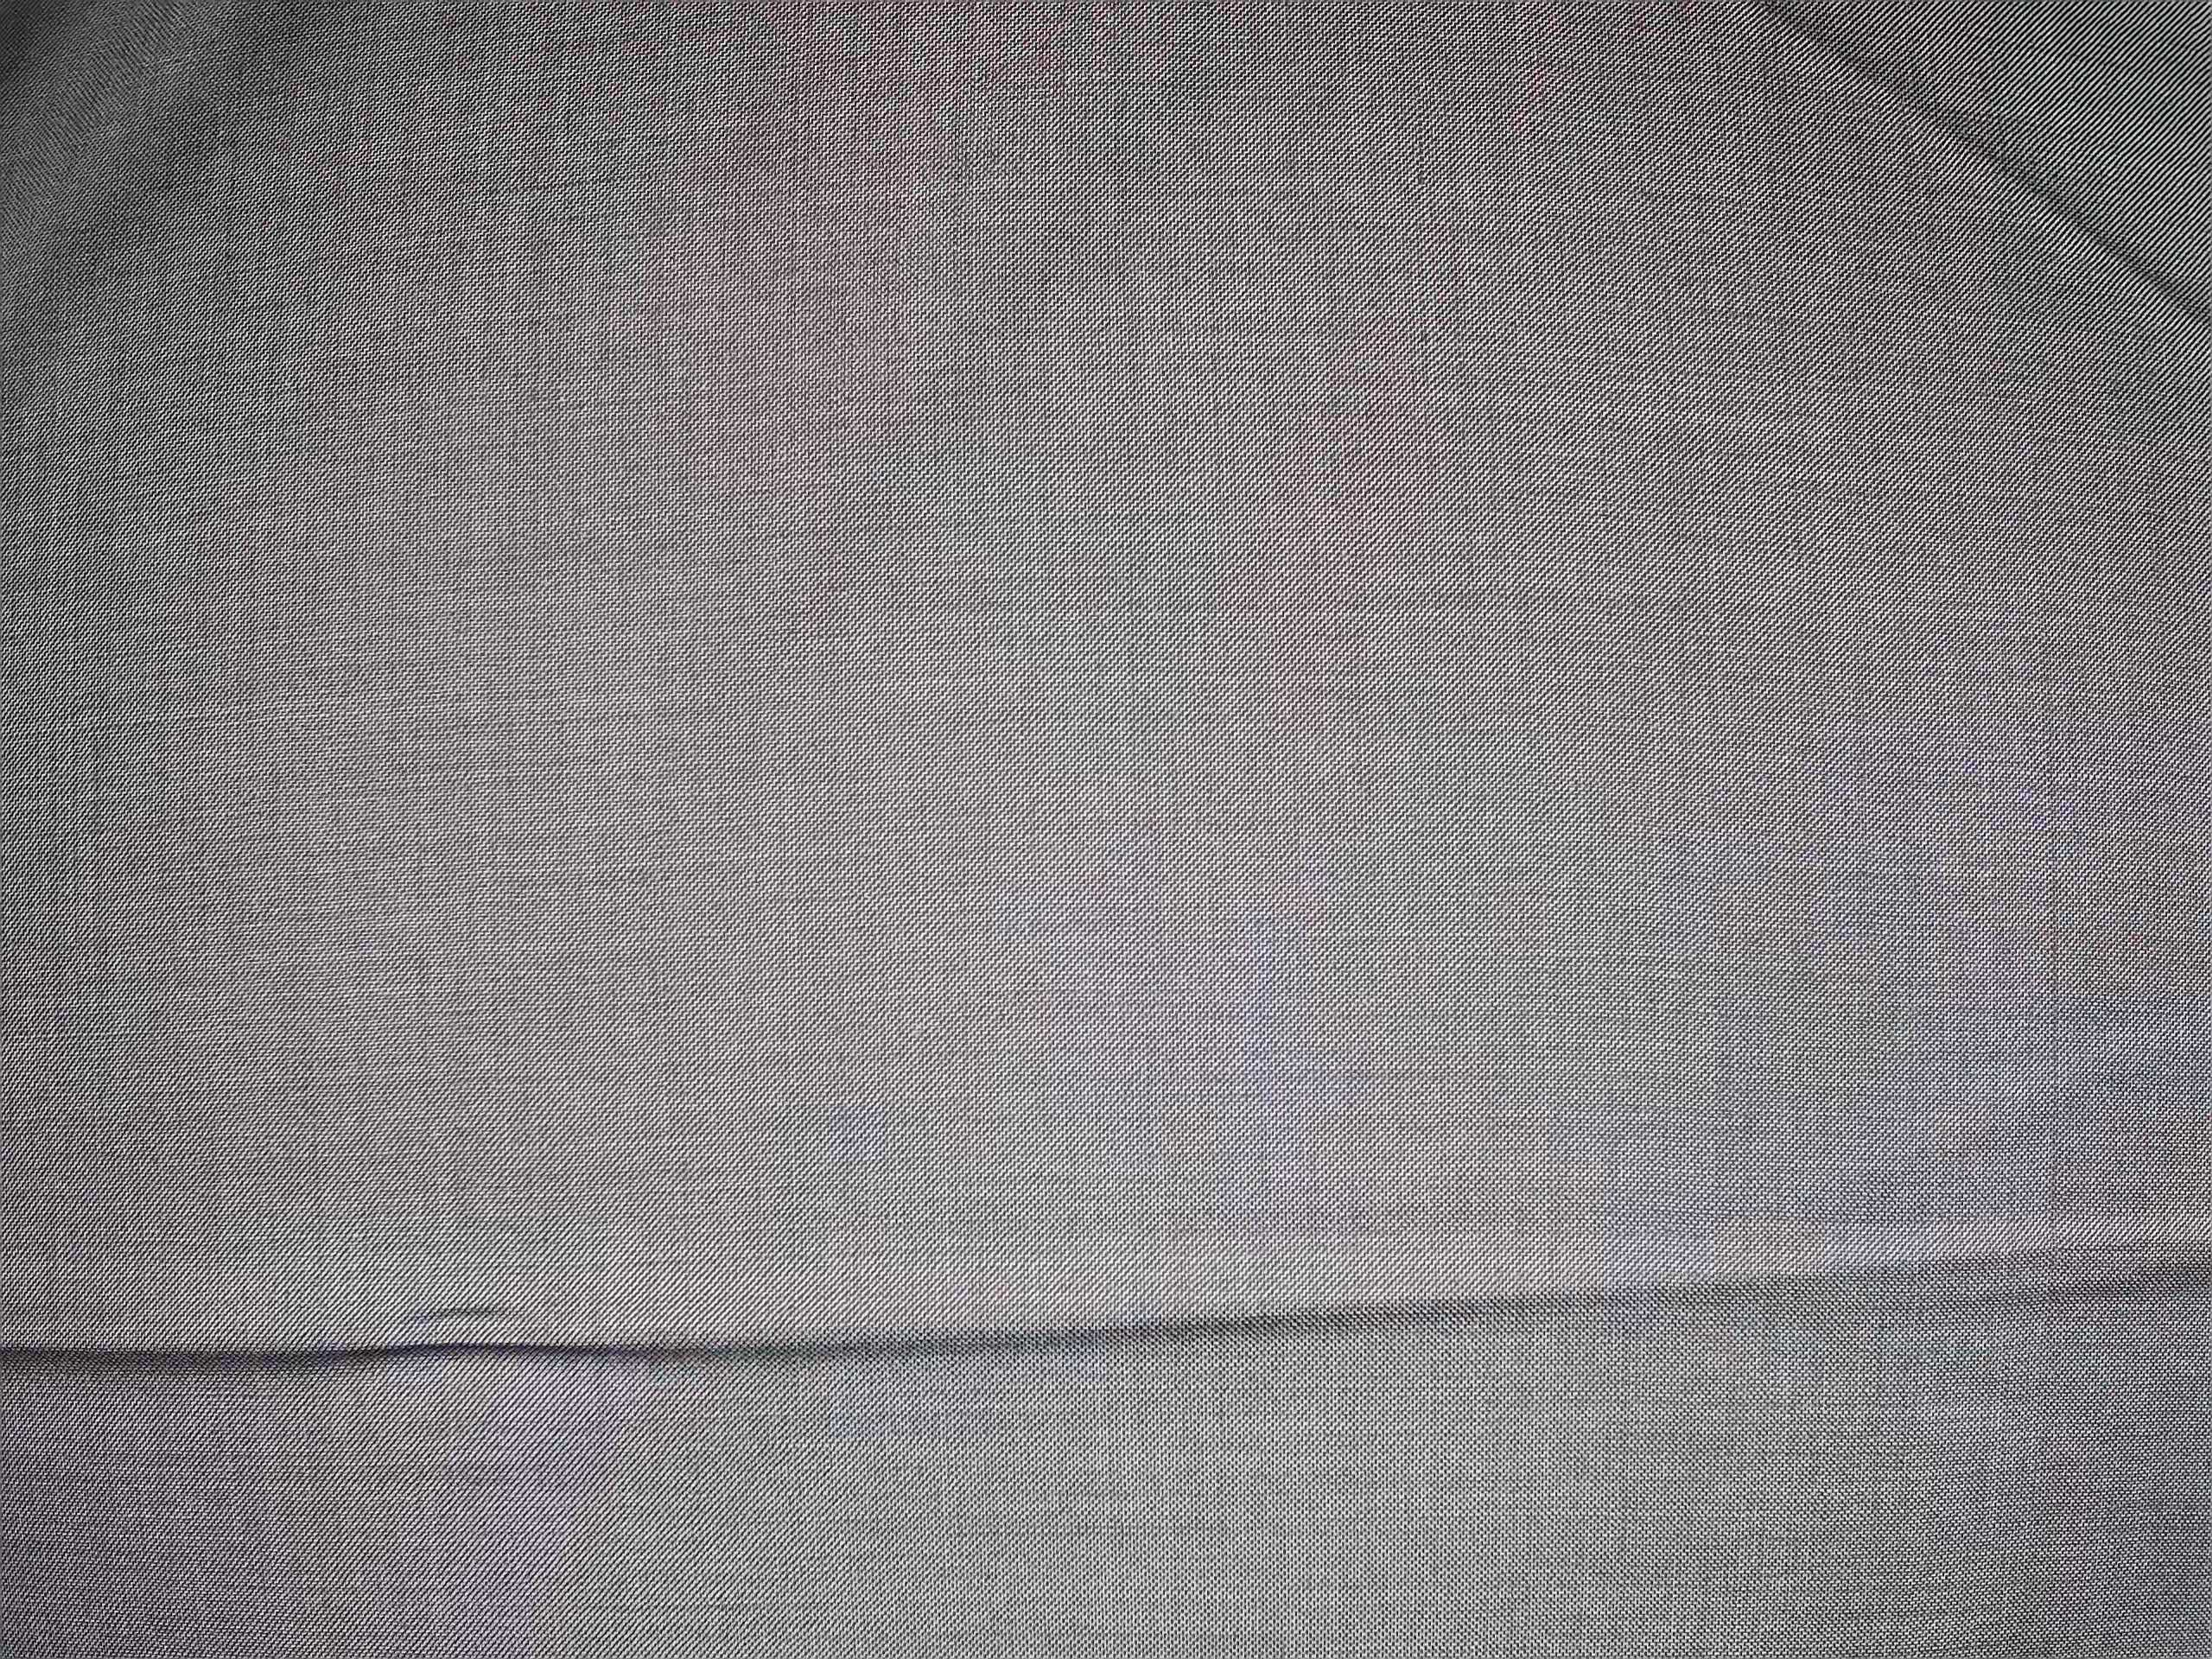hanging-warp: (2033, 653, 2071, 1284)
